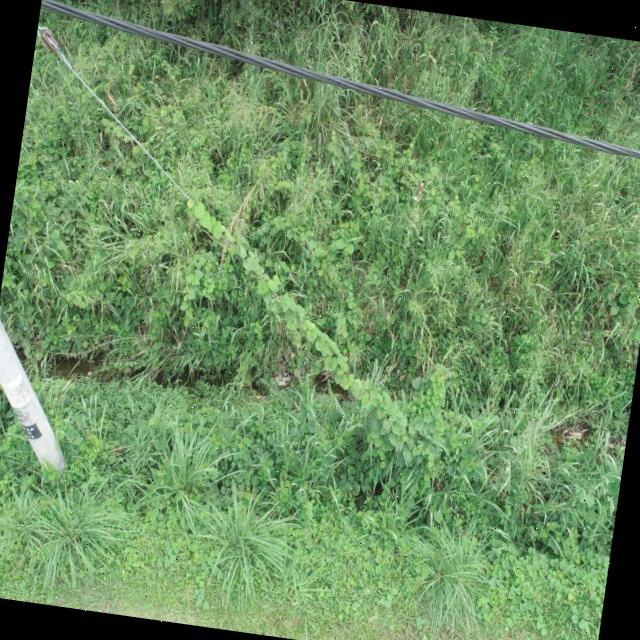critical vegetation: (147, 187, 480, 498)
